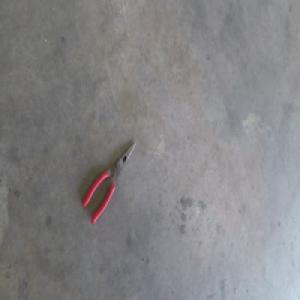Pliers: (82, 140, 136, 223)
